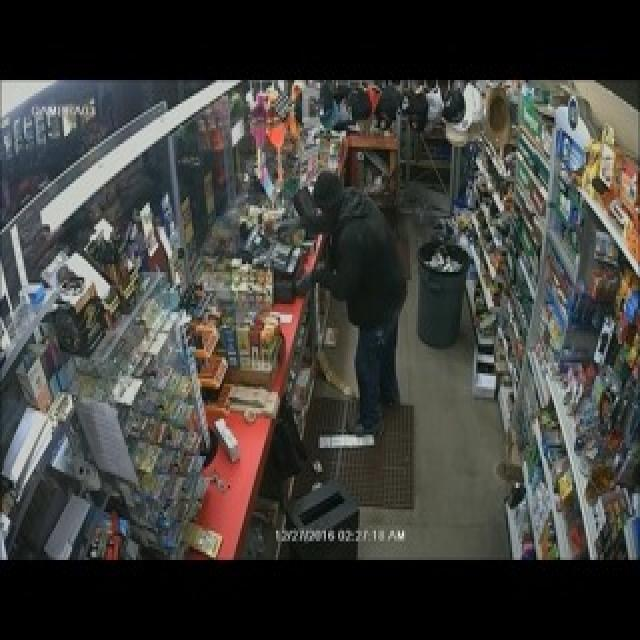thief: (299, 169, 420, 404)
